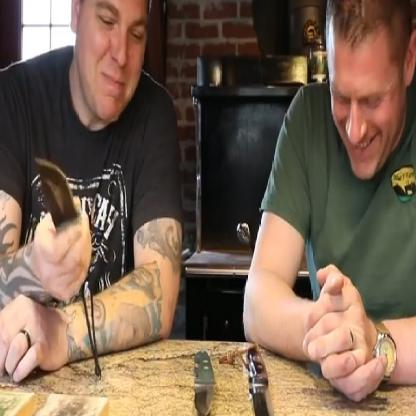knife: (27, 130, 96, 268)
